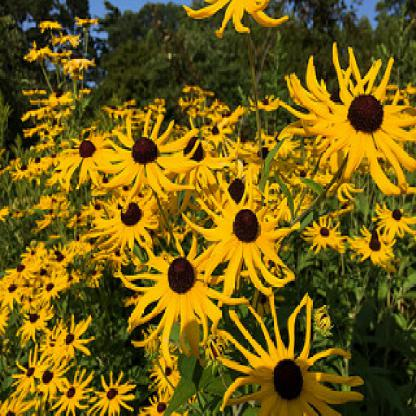SUN FLOWER: (5, 10, 401, 401)
